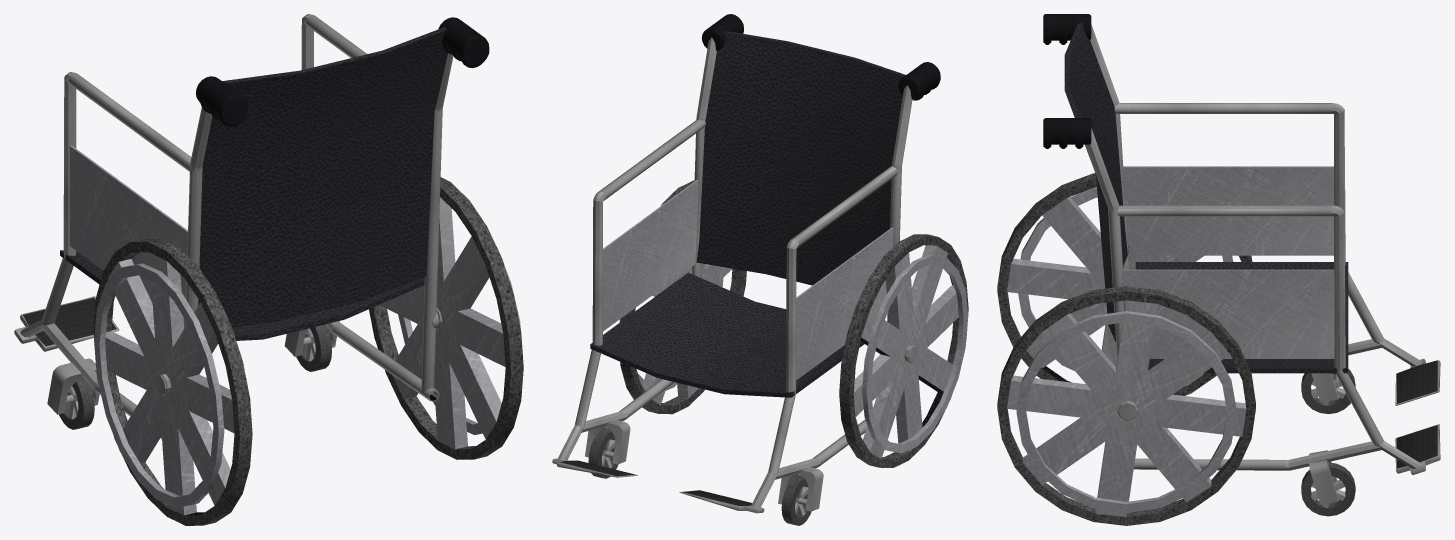
Rendered from wheel_chair.glb.
3 renders of one model, left to right at view 1: azimuth 30°, elevation 25°; view 2: azimuth 150°, elevation 25°; view 3: azimuth 270°, elevation 25°, orthographic. The views are drawn at different scales.
Parts seen in each view (by area): view 1: Tube001; view 2: Tube001; view 3: Tube001.
Part boxes in pixels (<box>): Tube001: <box>14,14,523,525</box>; Tube001: <box>552,14,968,525</box>; Tube001: <box>997,14,1440,525</box>.
Size of the model in its own units: 32.39 by 45.78 by 46.27.
Materials: 1 (1 with a texture image).
